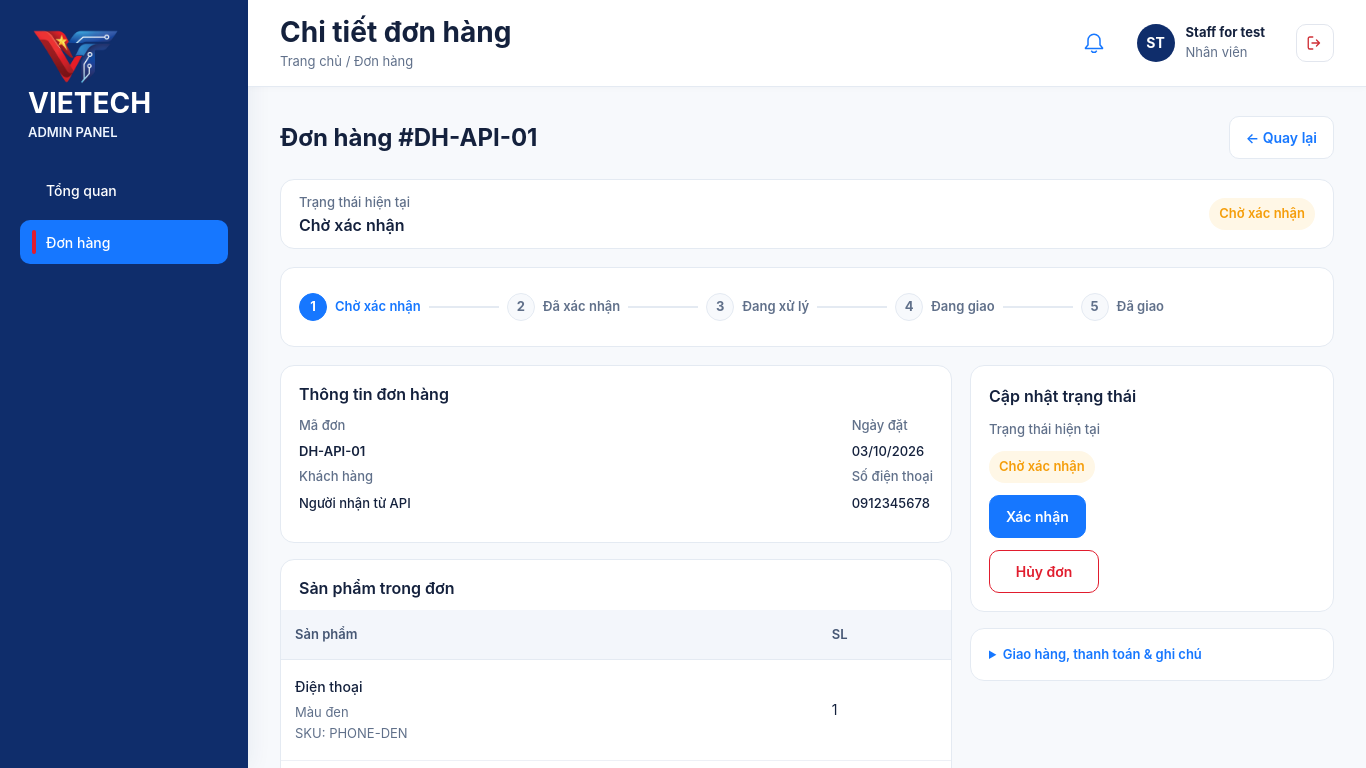
Test: confirming updates the detail page, history and next action without returning to the list
Click the button "Xác nhận" at x=1037, y=516, box [989,495,1086,538]
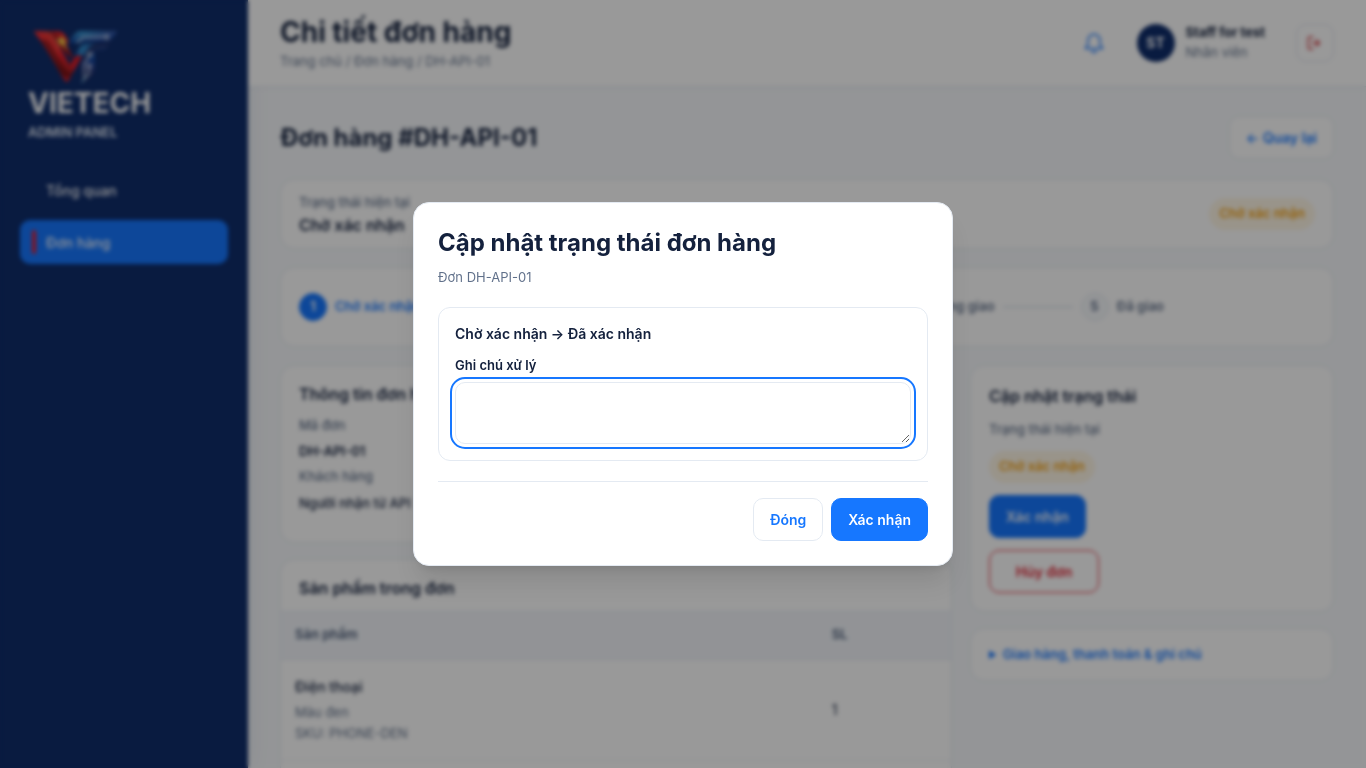
Type "Đã gọi xác nhận" into the text box labelled "Ghi chú xử lý" at x=683, y=413, box [455,382,911,444]
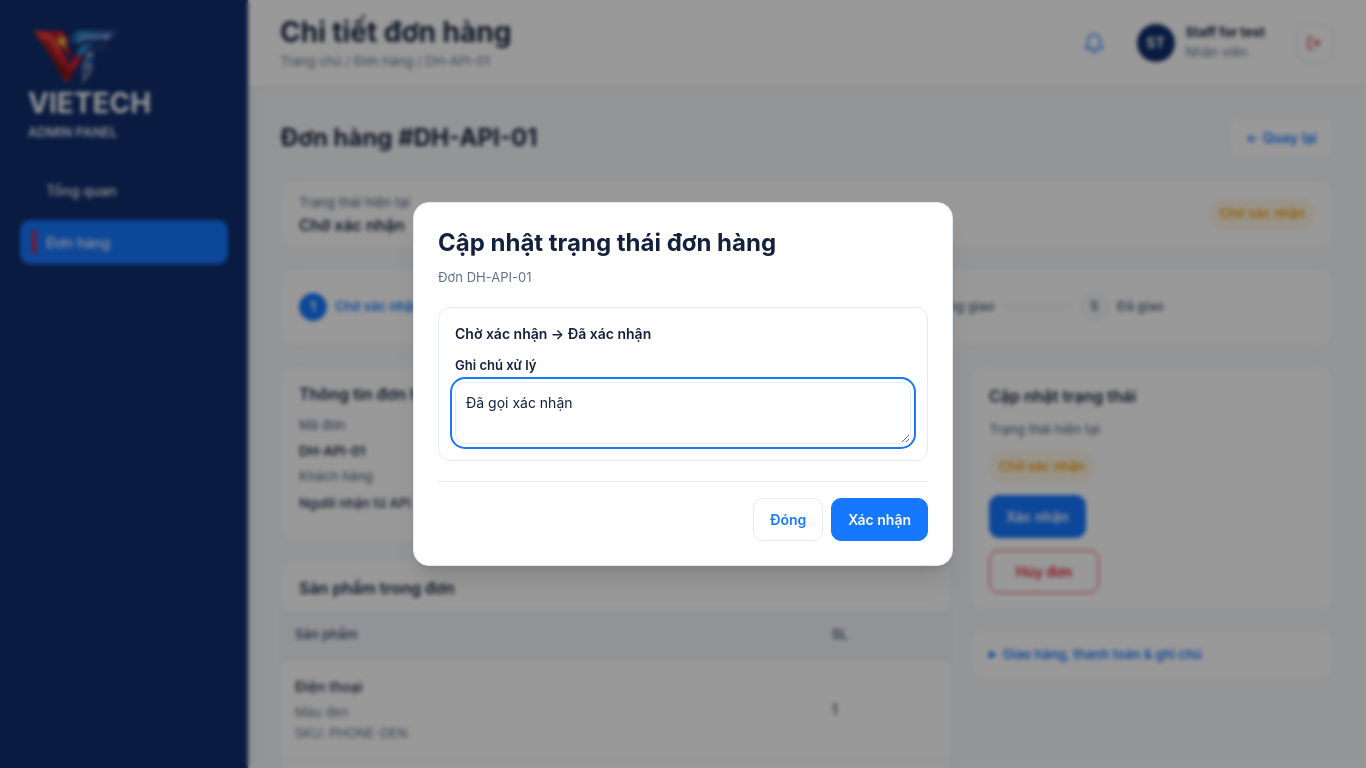
Check: the button "Xác nhận" is enabled
Click the button "Xác nhận" at x=880, y=519, box [831,498,928,541]
(page scrolled)
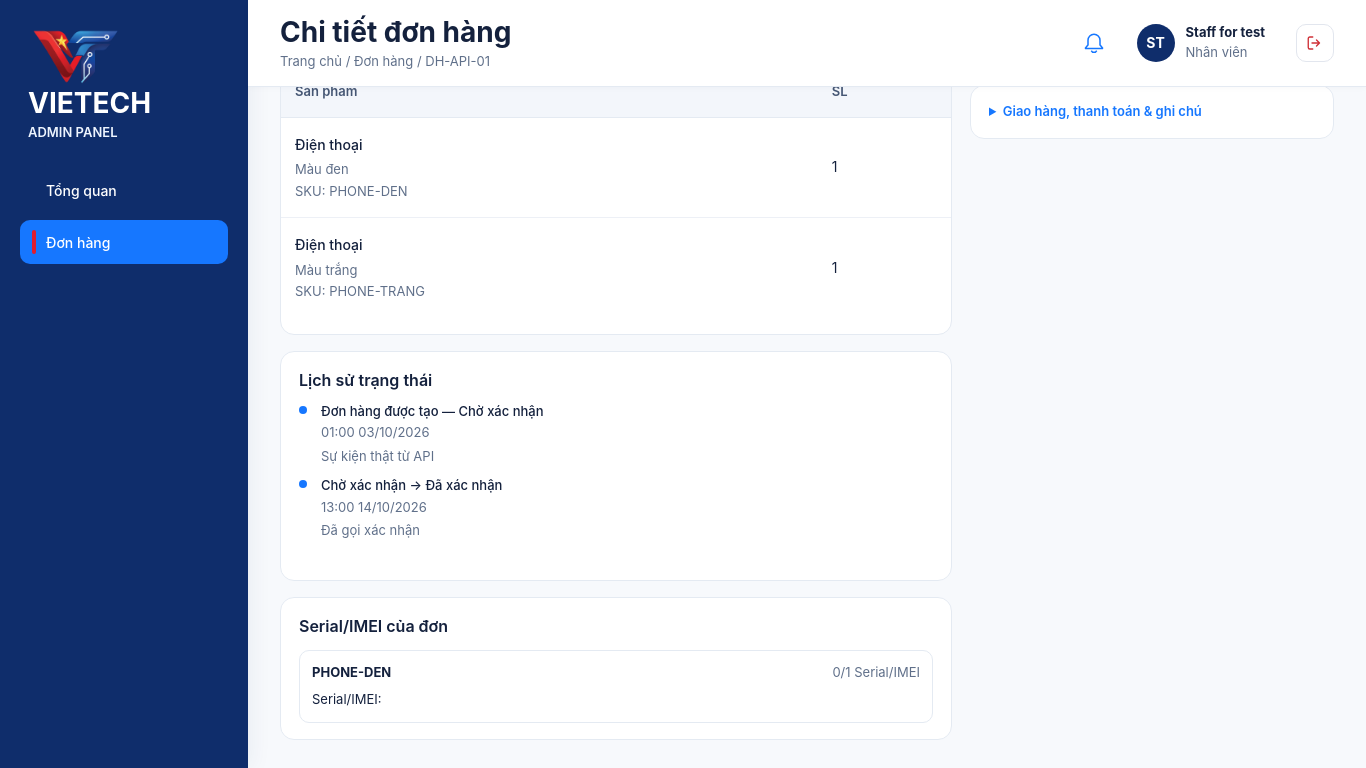
Check: the dialog is gone
Check: the text "Đã gọi xác nhận" is shown, box [321,522,420,538]
